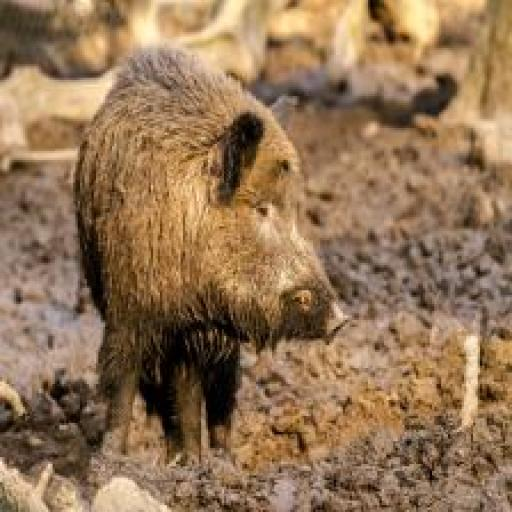Pig: (68, 44, 348, 468)
